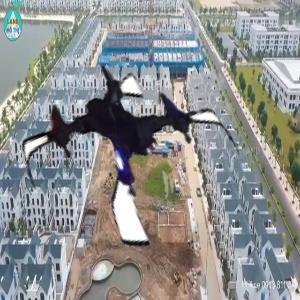drone: (23, 49, 240, 266)
